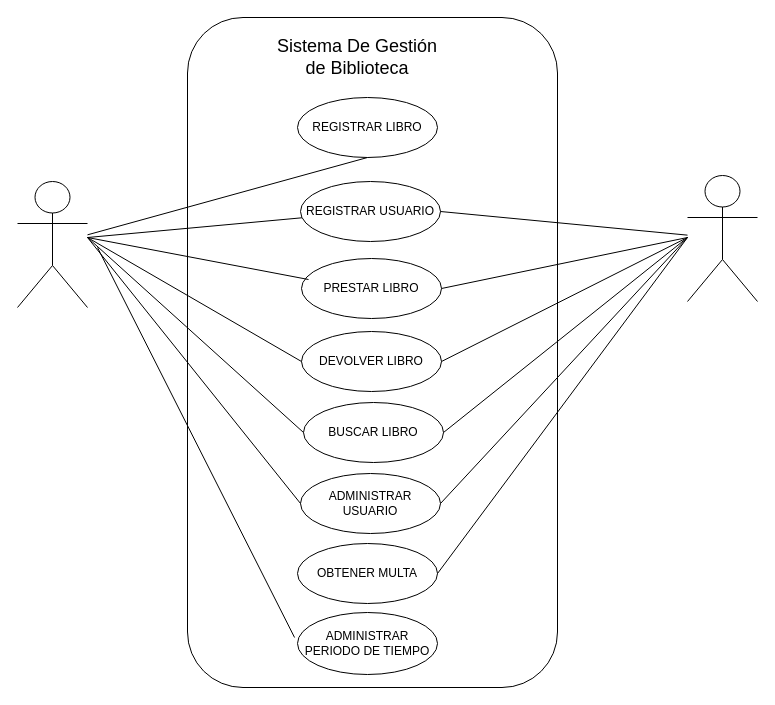
This 775x705 diagram has some shape labels left out. The shapes that lost their labels are listed below. From the top down, each one's centre as x and y in pixels, then its label:
the point at 52,244: ADMIN
the point at 722,238: USUARIO
